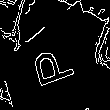P_W: (24, 45, 77, 96)
